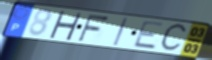8: (28, 8, 54, 38)
C: (158, 22, 189, 54)
E: (132, 20, 167, 51)
F: (76, 13, 111, 42)
H: (48, 10, 84, 41)
I: (112, 17, 130, 47)
